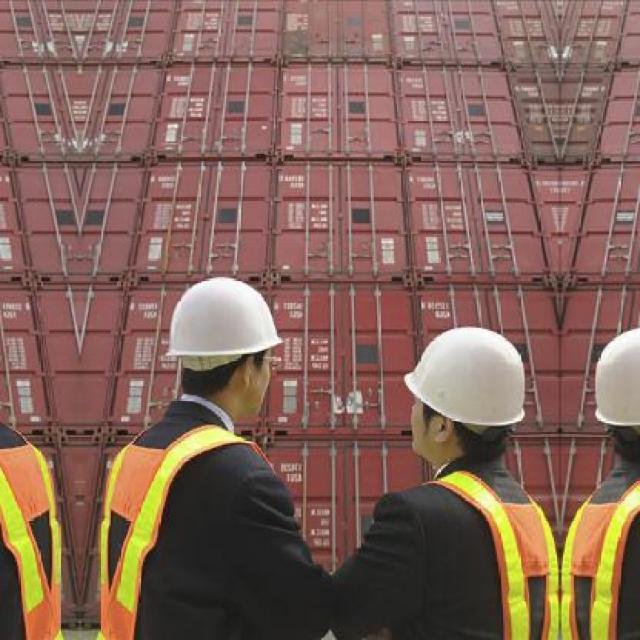Reflective-Jacket: (87, 417, 316, 640), (374, 463, 558, 640), (0, 415, 69, 640), (560, 460, 640, 640)
Safety-Helmet: (392, 317, 543, 441), (143, 268, 295, 382), (584, 318, 640, 435)
